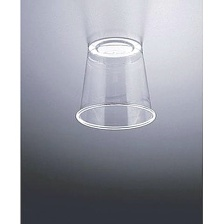glass: (72, 34, 160, 133)
